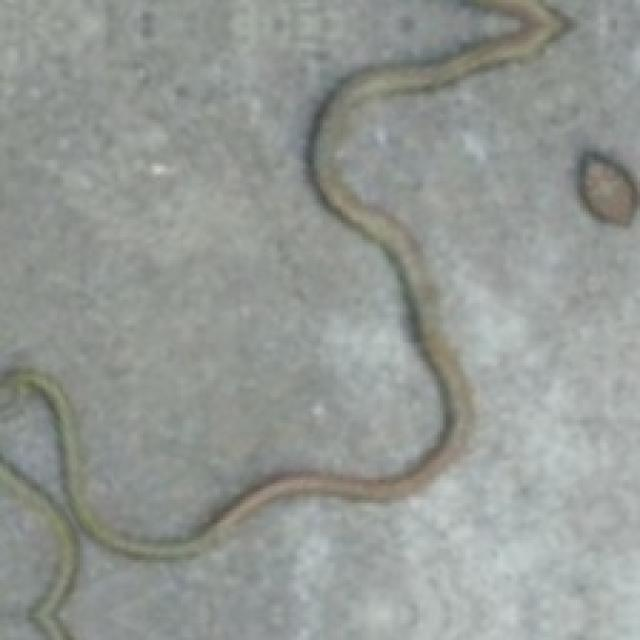paradise tree snake: (0, 0, 503, 534), (66, 506, 414, 637), (0, 494, 51, 637)
